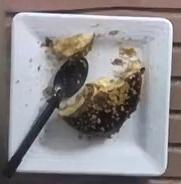donut: (59, 68, 144, 137)
